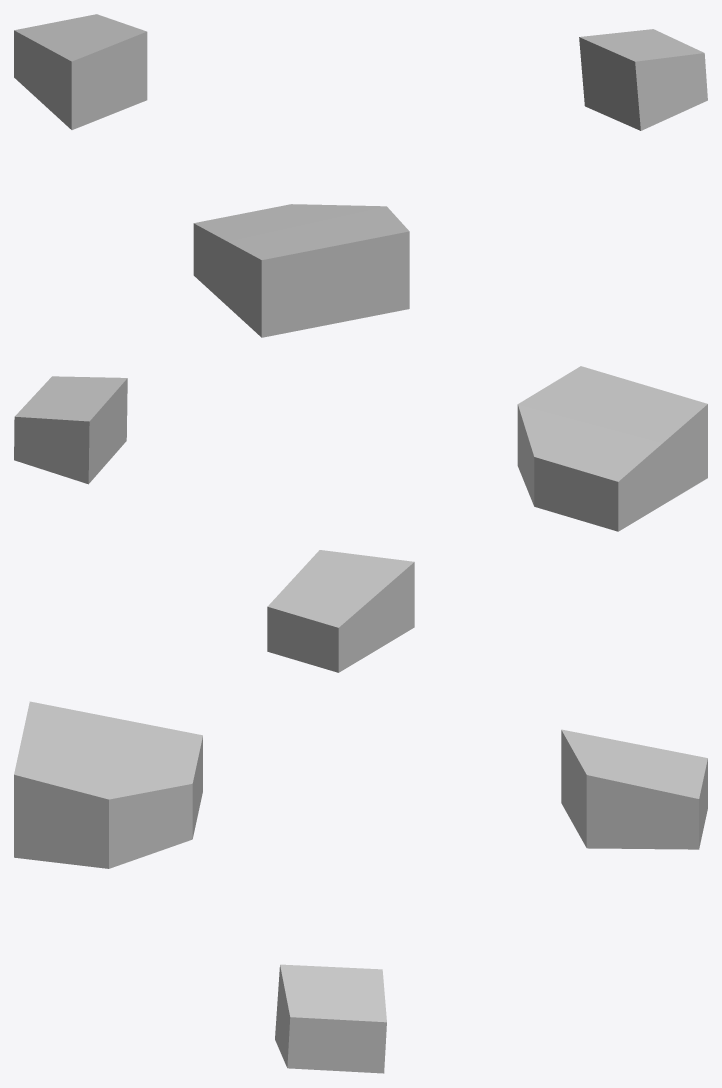
Rendered from Rock_Blocks_s_01.fbx.
3 renders of one model, top to bottom at view 1: azimuth 30°, elevation 25°; view 2: azimuth 150°, elevation 25°; view 3: azimuth 270°, elevation 25°, orthographic. The views are drawn at different scales.
Parts seen in each view (by area): view 1: Rock_Blocks_s_01; view 2: Rock_Blocks_s_01; view 3: Rock_Blocks_s_01.
Part boxes in pixels (box(x1,y1,x2,y2)): Rock_Blocks_s_01: box(14, 14, 707, 337); Rock_Blocks_s_01: box(14, 366, 707, 672); Rock_Blocks_s_01: box(14, 701, 707, 1073).
Bounding box in the file's own units: 48.53 × 7.04 × 48.15.
